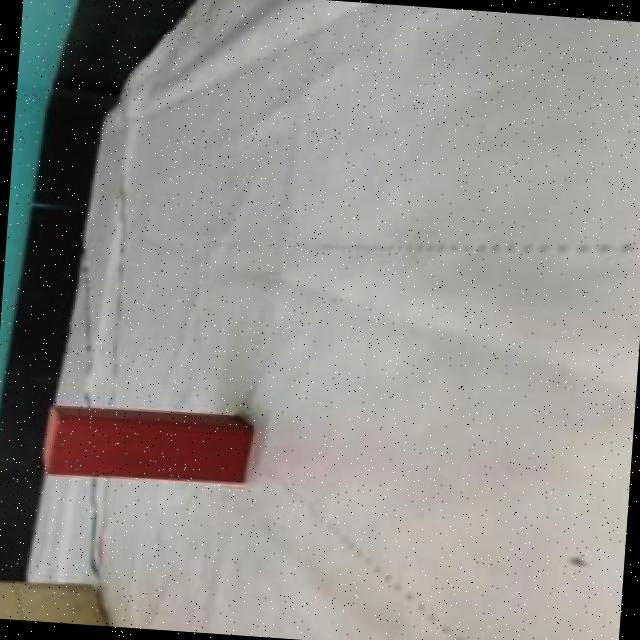redbox: (40, 402, 251, 489)
